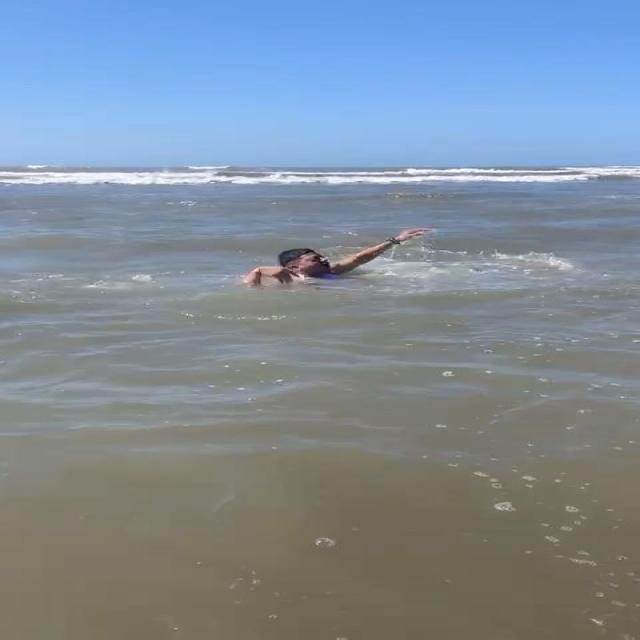Out of Water: (240, 225, 429, 289)
